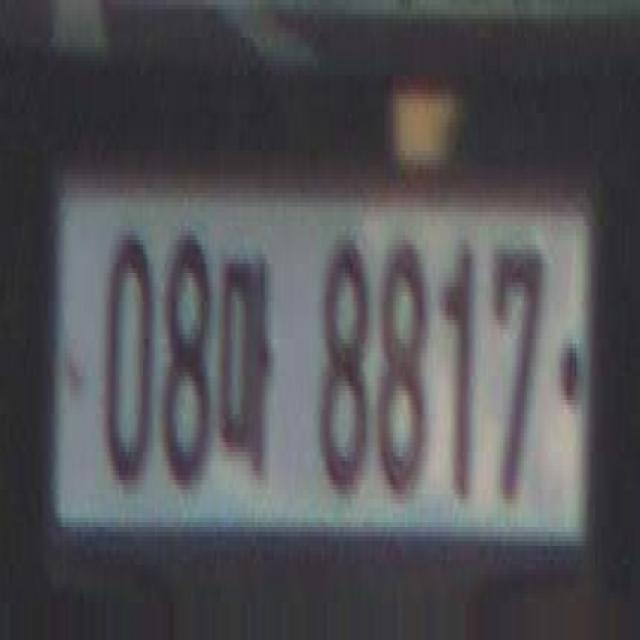illegal_plate: (49, 164, 598, 580)
